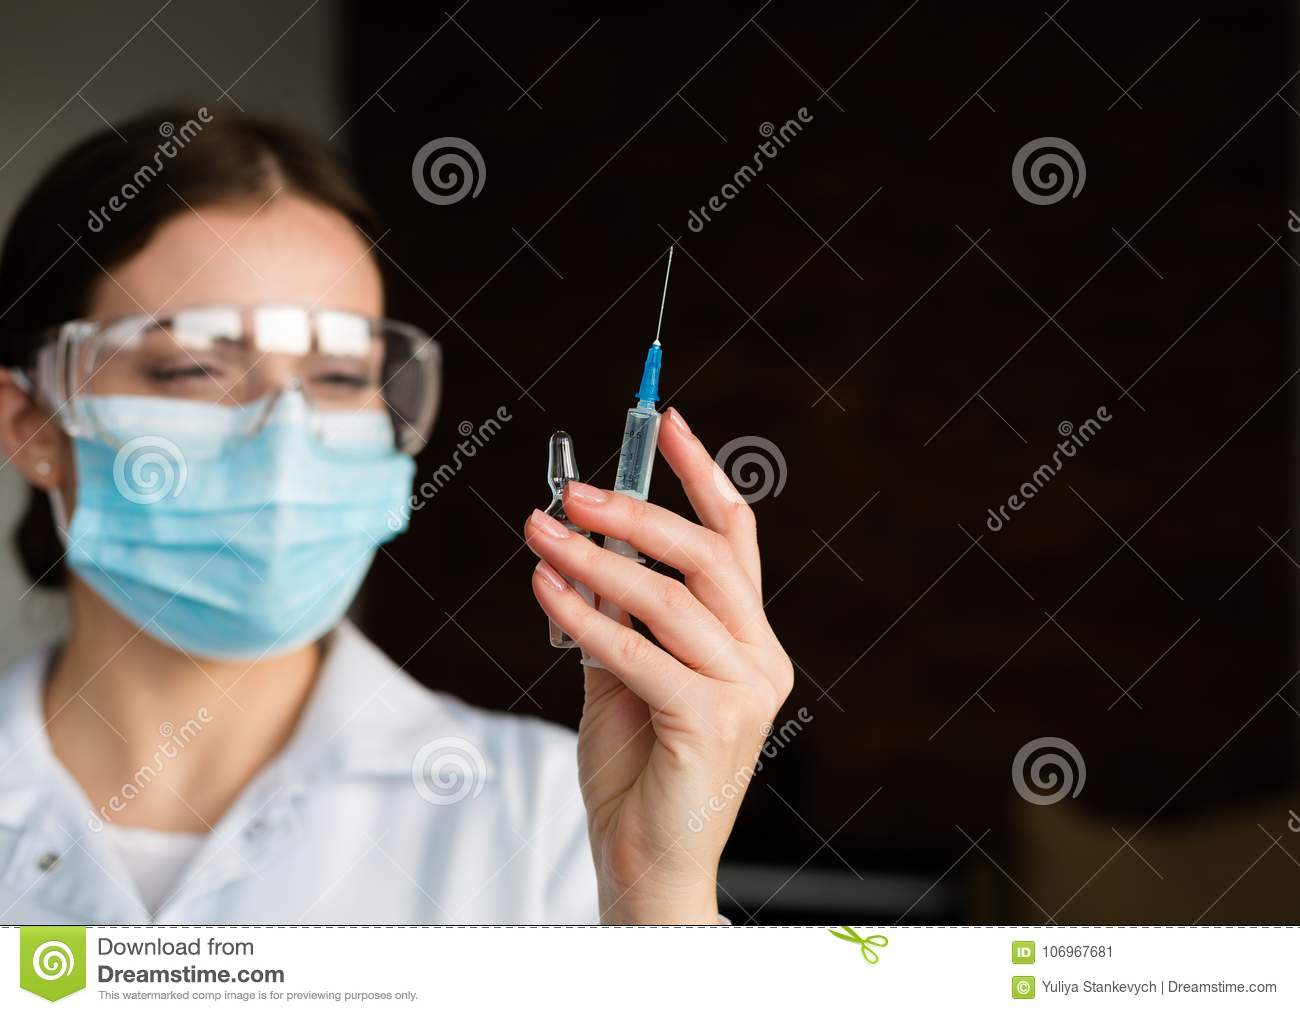mask: (68, 403, 412, 666)
